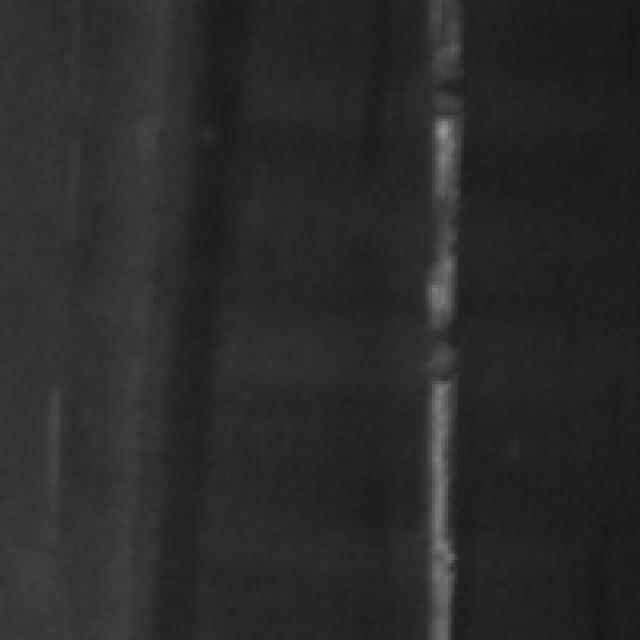scratches: (407, 9, 468, 634)
